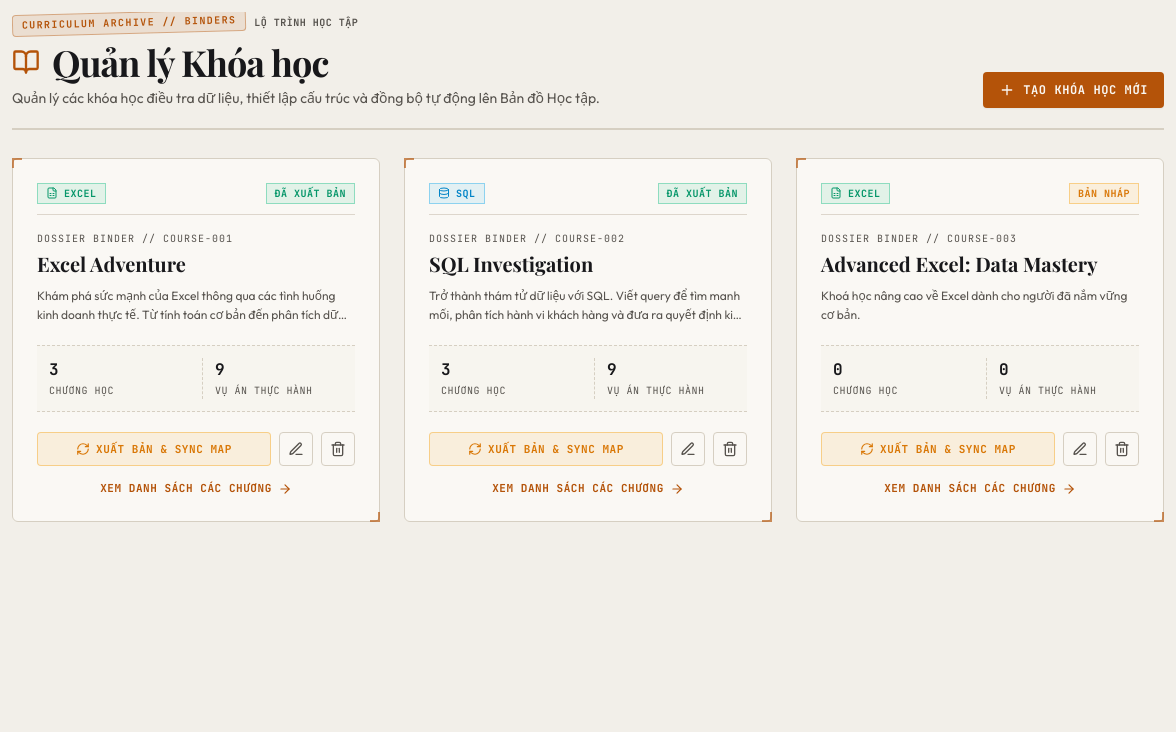
Test case: AdminCoursesPage Component Tests › bấm "Xuất bản & Sync Map" cập nhật lại Learning Map view
Click the button "Xuất bản & Sync Map" below "Excel Adventure".
click(154, 449)  # box [37,432,271,466]
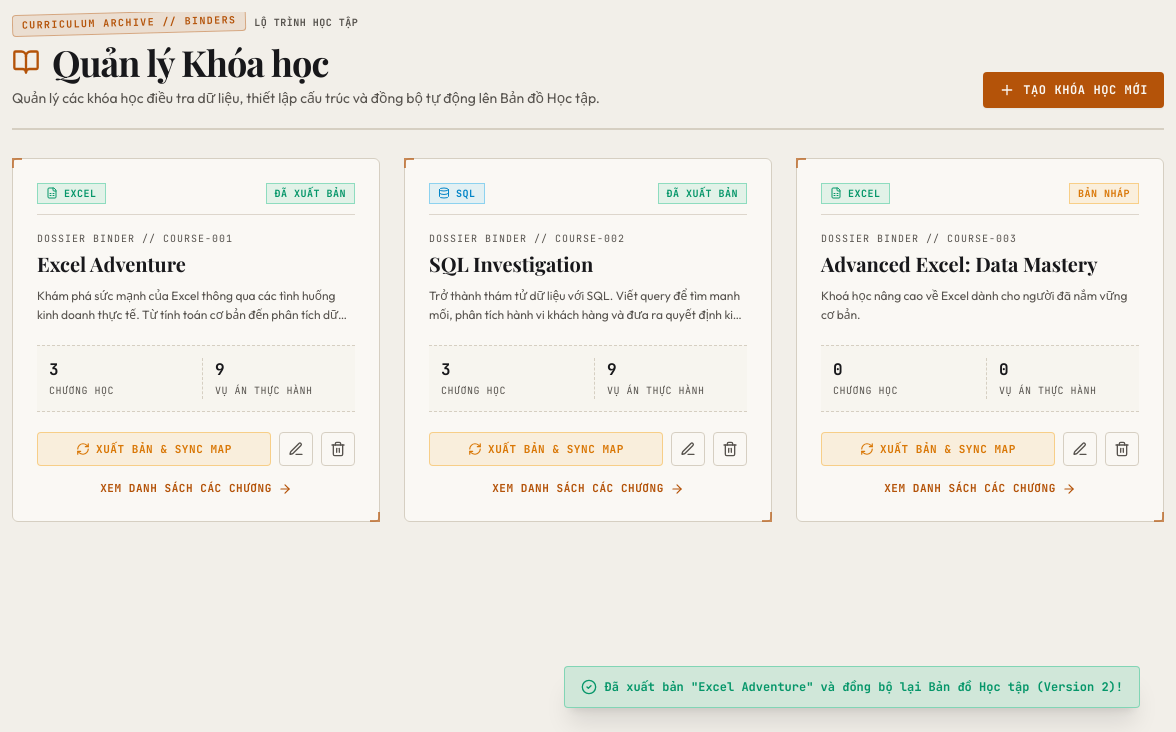
Result: the text "đồng bộ lại Bản đồ Học tập" is shown at [605,679,1123,695]
